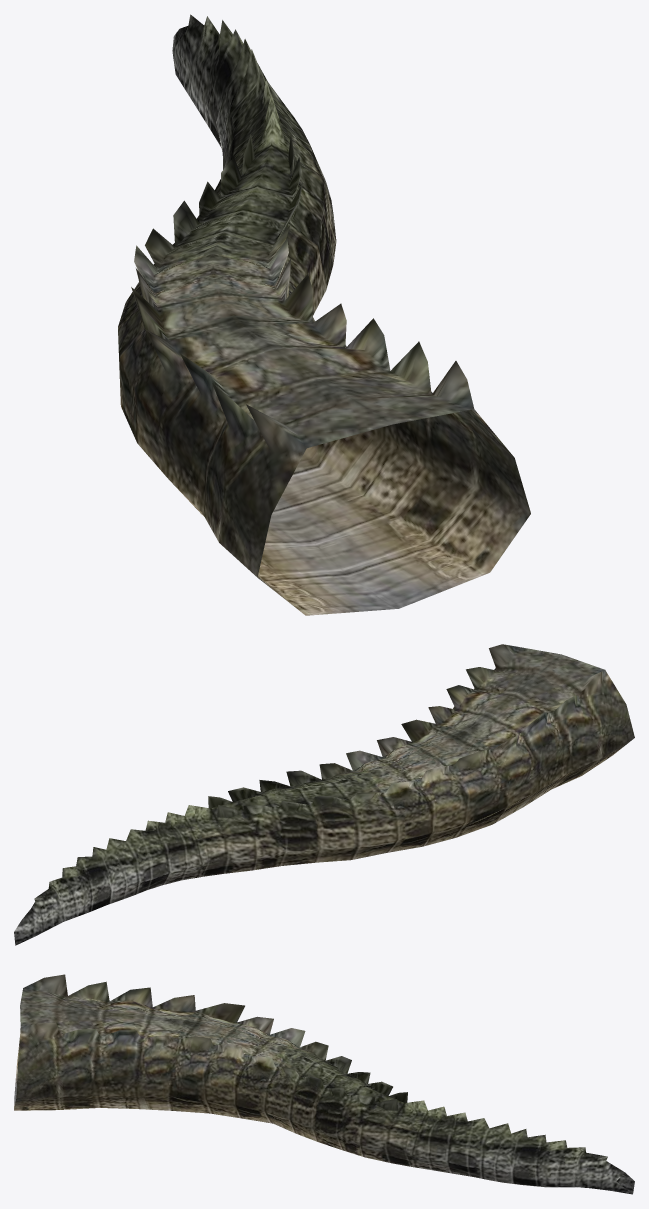
The model's file is cola.obj.
3 views of the same model, one above another, from view 1: azimuth 30°, elevation 25°; view 2: azimuth 150°, elevation 25°; view 3: azimuth 270°, elevation 25° (orthographic). The views are drawn at different scales.
Visible parts, largest first — view 1: polySurface1 Crocodile1:CrocodieCrocodileFBXASC0400FBXASC041Croc; view 2: polySurface1 Crocodile1:CrocodieCrocodileFBXASC0400FBXASC041Croc; view 3: polySurface1 Crocodile1:CrocodieCrocodileFBXASC0400FBXASC041Croc.
Part boxes in pixels (left/top/right/bottom): polySurface1 Crocodile1:CrocodieCrocodileFBXASC0400FBXASC041Croc: left=118, top=14, right=530, bottom=615; polySurface1 Crocodile1:CrocodieCrocodileFBXASC0400FBXASC041Croc: left=14, top=644, right=634, bottom=945; polySurface1 Crocodile1:CrocodieCrocodileFBXASC0400FBXASC041Croc: left=14, top=974, right=634, bottom=1194.
Bounding box in the file's own units: 0.6989 × 0.2543 × 1.41.
Materials: 1 (1 with a texture image).
